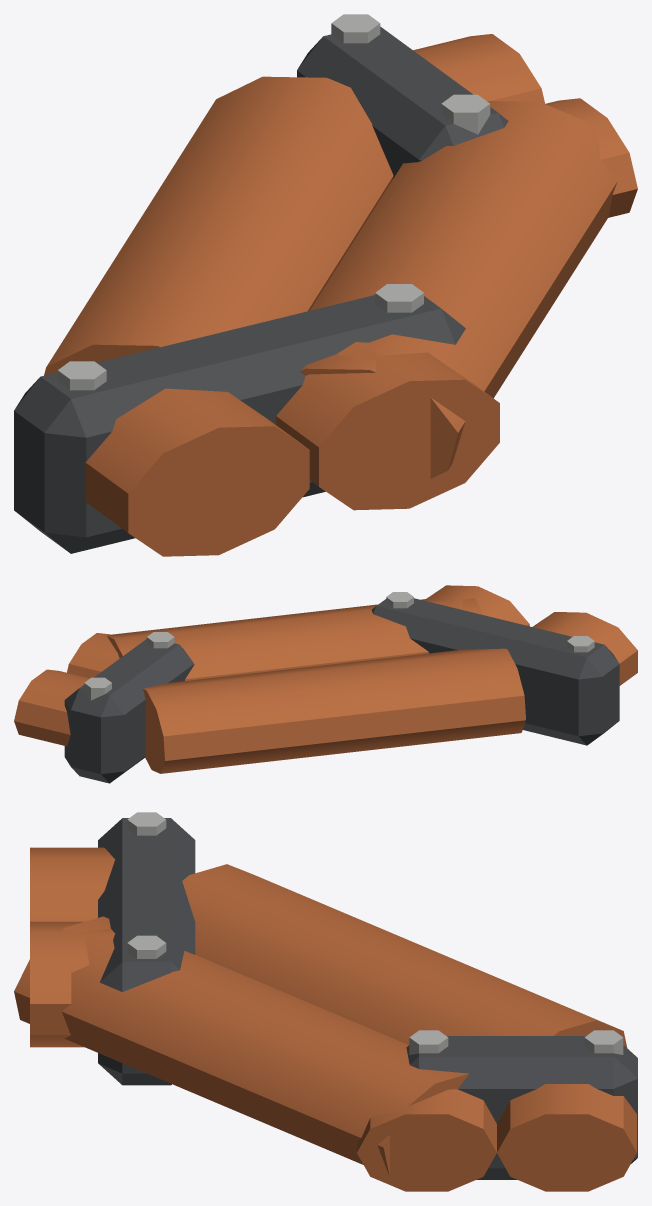
Rendered from heat-pipe-corner-down-right.glb.
The picture shows the model from 3 angles, top to bottom: view 1: azimuth 30°, elevation 25°; view 2: azimuth 150°, elevation 25°; view 3: azimuth 270°, elevation 25°; orthographic projection. The views are drawn at different scales.
Visible parts, largest first — view 1: body; view 2: body; view 3: body.
Boxes of the visible parts, bbox=[...] form: body: bbox=[14, 14, 637, 556]; body: bbox=[14, 585, 637, 783]; body: bbox=[14, 812, 637, 1191].
Size of the model in its own units: 0.7065 by 0.15 by 0.6415.
